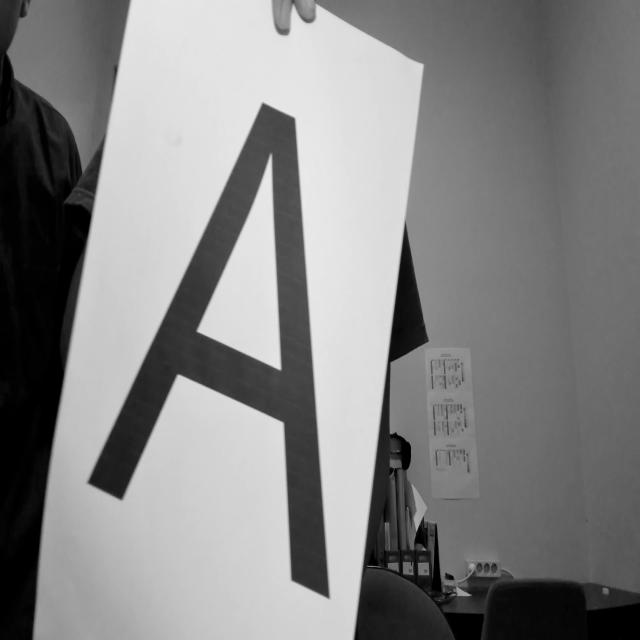a: (73, 61, 362, 632)
